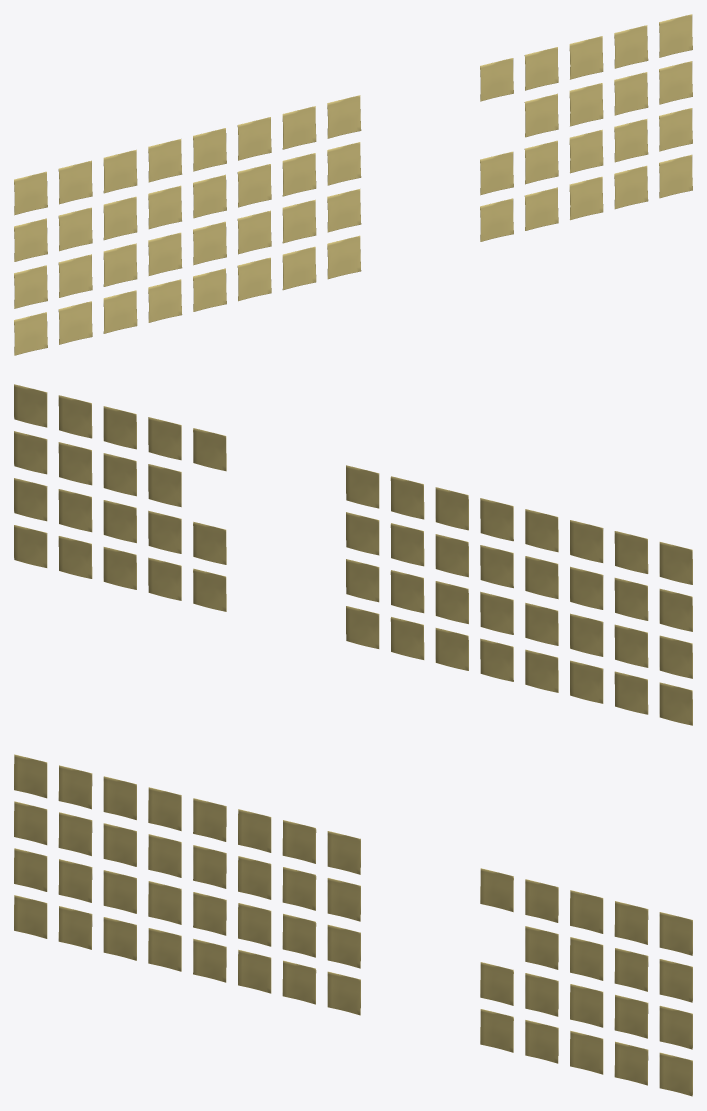
Rendered from postit_background.fbx.
The picture shows the model from 3 angles, top to bottom: view 1: azimuth 30°, elevation 25°; view 2: azimuth 150°, elevation 25°; view 3: azimuth 330°, elevation 25°; orthographic projection.
Visible parts, largest first — view 1: memo1 (×4), memo9 (×4), memo10 (×4), memo13 (×4), memo6 (×4), memo2 (×4), memo11 (×4), memo7 (×4), memo4 (×4), memo12 (×4), memo8 (×4), memo3 (×4) (+1 smaller); view 2: memo4 (×4), memo9 (×4), memo10 (×4), memo6 (×4), memo8 (×4), memo11 (×4), memo3 (×4), memo1 (×4), memo13 (×4), memo2 (×4), memo7 (×4), memo12 (×4) (+1 smaller); view 3: memo10 (×4), memo4 (×4), memo9 (×4), memo11 (×4), memo3 (×4), memo8 (×4), memo13 (×4), memo1 (×4), memo6 (×4), memo2 (×4), memo12 (×4), memo7 (×4) (+1 smaller).
Part boxes in pixels (<box>): memo1 (×4): <box>659,14,692,198</box>; memo9 (×4): <box>193,128,226,311</box>; memo10 (×4): <box>148,139,182,322</box>; memo13 (×4): <box>14,171,47,355</box>; memo6 (×4): <box>327,95,361,279</box>; memo2 (×4): <box>614,25,648,209</box>; memo11 (×4): <box>103,149,137,333</box>; memo7 (×4): <box>282,106,316,290</box>; memo4 (×4): <box>524,47,558,230</box>; memo12 (×4): <box>58,160,92,344</box>; memo8 (×4): <box>237,117,271,301</box>; memo3 (×4): <box>569,36,603,220</box>; memo4 (×4): <box>148,417,181,600</box>; memo9 (×4): <box>480,498,513,681</box>; memo10 (×4): <box>525,509,558,692</box>; memo6 (×4): <box>346,465,379,648</box>; memo8 (×4): <box>435,487,468,670</box>; memo11 (×4): <box>570,520,603,703</box>; memo3 (×4): <box>103,406,136,589</box>; memo1 (×4): <box>14,384,47,567</box>; memo13 (×4): <box>659,542,692,725</box>; memo2 (×4): <box>58,395,92,578</box>; memo7 (×4): <box>390,476,424,659</box>; memo12 (×4): <box>614,531,648,714</box>; memo10 (×4): <box>148,787,181,971</box>; memo4 (×4): <box>525,879,558,1063</box>; memo9 (×4): <box>193,798,226,982</box>; memo11 (×4): <box>103,776,136,960</box>; memo3 (×4): <box>570,890,603,1074</box>; memo8 (×4): <box>238,809,271,993</box>; memo13 (×4): <box>14,754,47,938</box>; memo1 (×4): <box>659,912,692,1096</box>; memo6 (×4): <box>327,831,360,1015</box>; memo2 (×4): <box>614,901,648,1085</box>; memo12 (×4): <box>58,765,92,949</box>; memo7 (×4): <box>282,820,316,1004</box>.
Bounding box in the file's own units: 152 × 37.59 × 0.3067.
